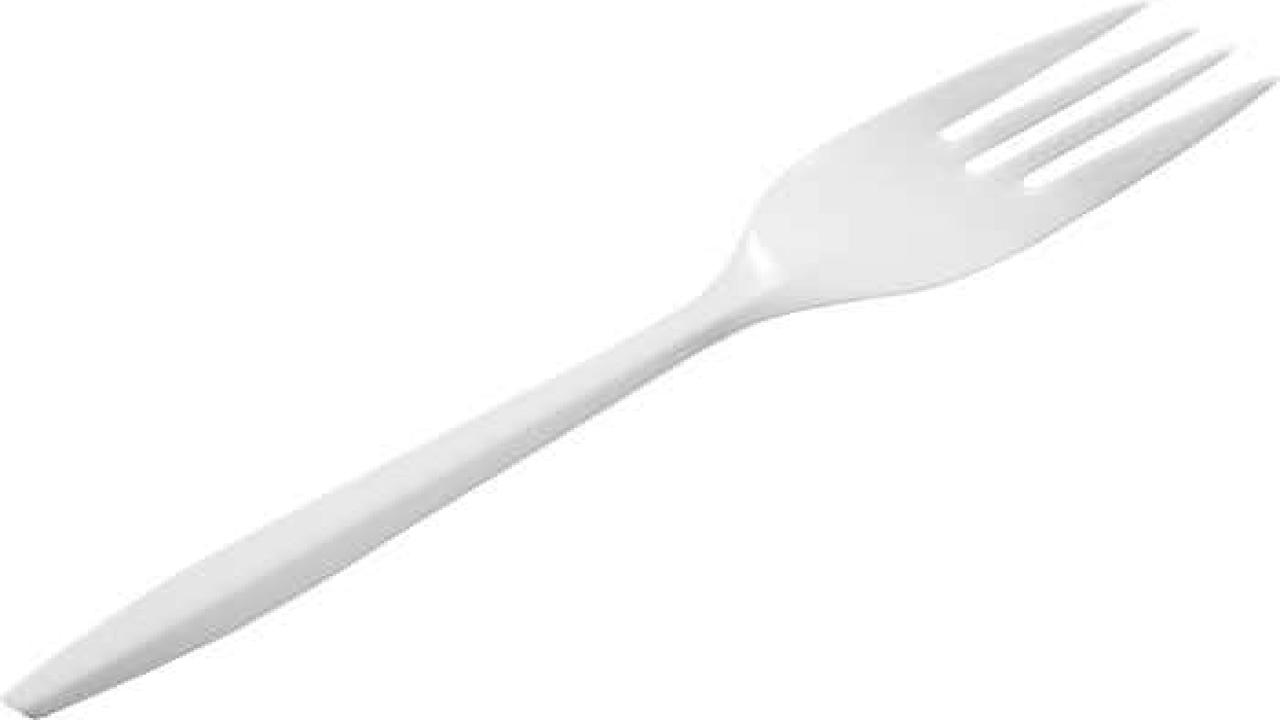fork: (0, 0, 1276, 718)
